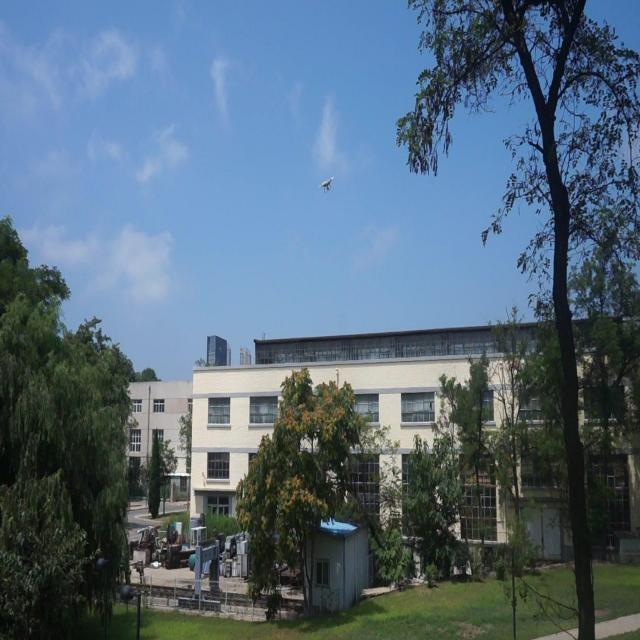UAV: (317, 176, 334, 193)
